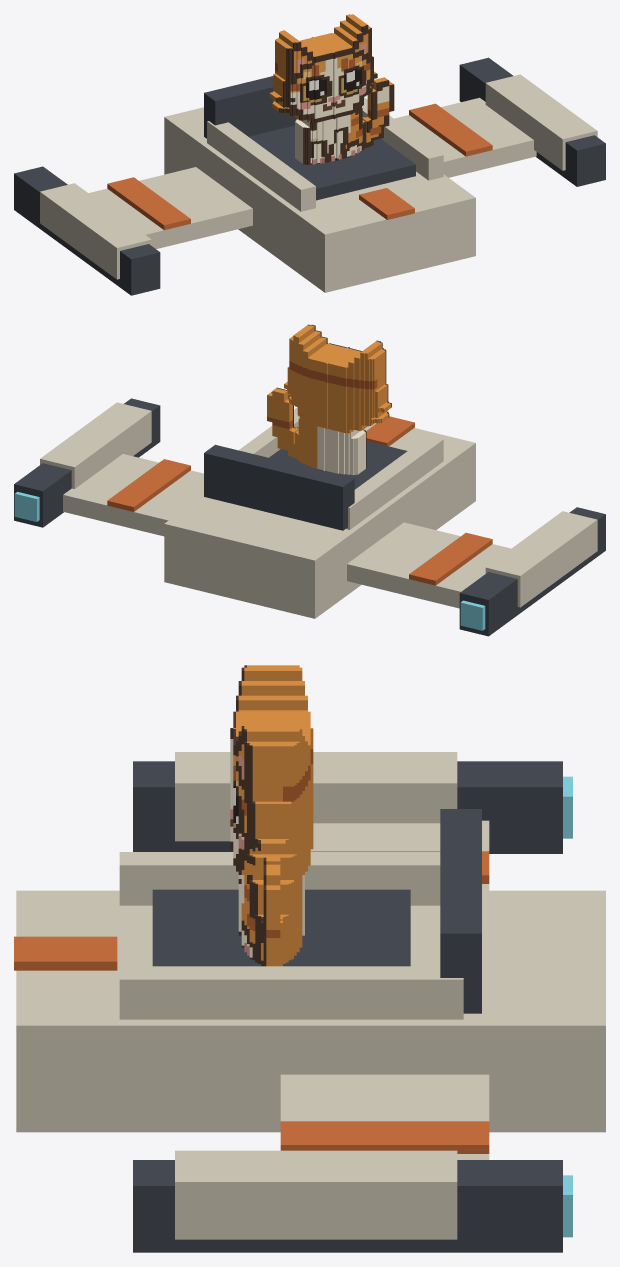
File: morfeu-ship-v01.glb
3 views of the same model, one above another, from view 1: azimuth 30°, elevation 25°; view 2: azimuth 150°, elevation 25°; view 3: azimuth 270°, elevation 25° (orthographic). The views are drawn at different scales.
Visible parts, largest first — view 1: Fuselage, Morfeu • original sprite in volume, Wing, Engine ivory shell, Cockpit dark interior, Engine ivory shell.001, Wing.001, Engine housing, Cockpit rim, Cockpit rear, Engine housing.001, Wing stripe (+3 smaller); view 2: Fuselage, Morfeu • original sprite in volume, Cockpit rear, Wing, Wing.001, Engine ivory shell, Engine ivory shell.001, Engine housing, Cockpit rim, Engine housing.001, Wing stripe.001, Wing stripe (+5 smaller); view 3: Fuselage, Engine ivory shell.001, Morfeu • original sprite in volume, Cockpit rim.001, Engine housing.001, Cockpit dark interior, Engine ivory shell, Engine housing, Cockpit rim, Wing.001, Cockpit rear, Wing stripe.001 (+2 smaller).
Boxes of the visible parts, bbox=[...] form: Fuselage: bbox=[164, 107, 475, 292]; Morfeu • original sprite in volume: bbox=[269, 14, 394, 164]; Wing: bbox=[89, 167, 252, 249]; Engine ivory shell: bbox=[40, 183, 151, 279]; Cockpit dark interior: bbox=[248, 125, 415, 200]; Engine ivory shell.001: bbox=[485, 74, 597, 170]; Wing.001: bbox=[394, 97, 536, 177]; Engine housing: bbox=[14, 166, 160, 295]; Cockpit rim: bbox=[207, 121, 315, 211]; Cockpit rear: bbox=[204, 76, 297, 138]; Engine housing.001: bbox=[459, 57, 605, 186]; Wing stripe: bbox=[107, 177, 190, 230]; Fuselage: bbox=[164, 423, 475, 618]; Morfeu • original sprite in volume: bbox=[267, 324, 391, 475]; Cockpit rear: bbox=[204, 444, 354, 530]; Wing: bbox=[347, 522, 510, 608]; Wing.001: bbox=[63, 454, 203, 536]; Engine ivory shell: bbox=[485, 511, 597, 607]; Engine ivory shell.001: bbox=[40, 402, 151, 488]; Engine housing: bbox=[459, 507, 605, 636]; Cockpit rim: bbox=[346, 436, 443, 529]; Engine housing.001: bbox=[14, 398, 160, 527]; Wing stripe.001: bbox=[107, 459, 190, 511]; Wing stripe: bbox=[409, 532, 492, 585]; Fuselage: bbox=[16, 890, 605, 1132]; Engine ivory shell.001: bbox=[175, 1150, 457, 1239]; Morfeu • original sprite in volume: bbox=[230, 665, 313, 966]; Cockpit rim.001: bbox=[119, 966, 463, 1019]; Engine housing.001: bbox=[133, 1160, 562, 1252]; Cockpit dark interior: bbox=[152, 889, 410, 966]; Engine ivory shell: bbox=[175, 752, 457, 841]; Engine housing: bbox=[133, 761, 562, 853]; Cockpit rim: bbox=[119, 852, 440, 905]; Wing.001: bbox=[280, 1074, 489, 1159]; Cockpit rear: bbox=[440, 809, 481, 1013]; Wing stripe.001: bbox=[280, 1121, 489, 1153].
Size of the model in its own units: 4.14 by 1.62 by 2.41.
